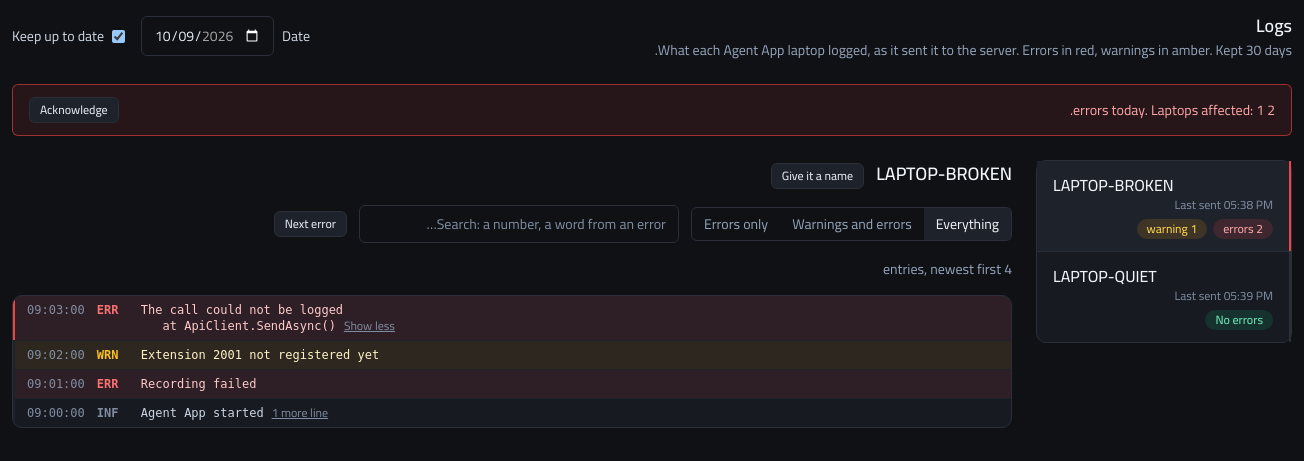
Test: logs page › opens the laptop with errors and marks its errors and warnings
Expected: the list item "The call could not be logged" shows "at ApiClient.SendAsync()", [141,303,343,333]
Expected: the list item "09:00:00 INF Agent App started 1 more line" does not show "second line", [13,398,1011,427]
Click the button "1 more line".
click(300, 413)  # box [272,405,328,421]
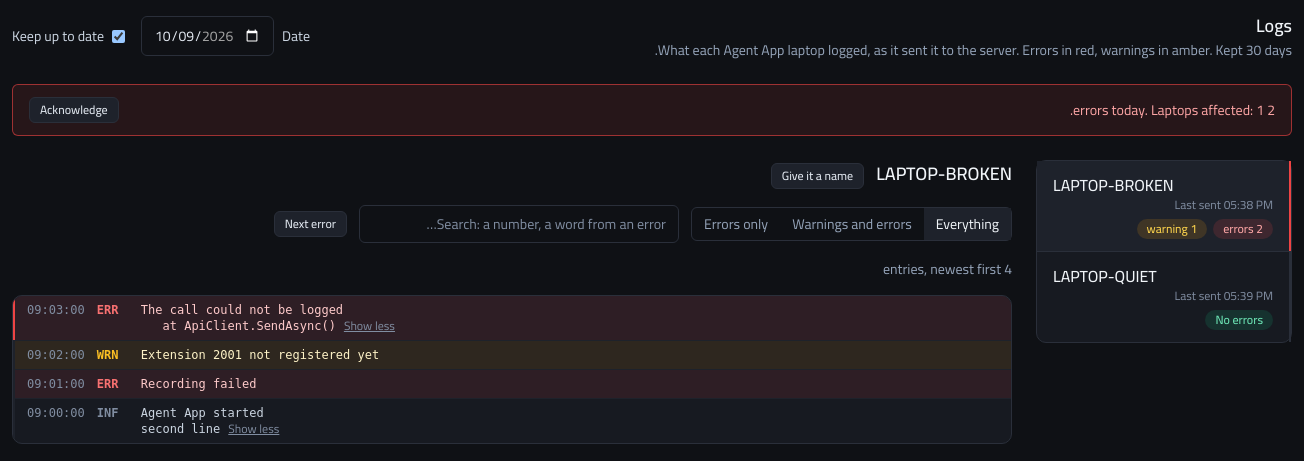
Expected: the list item "09:00:00 INF Agent App started second line Show less" is shown, [13,398,1011,443]
